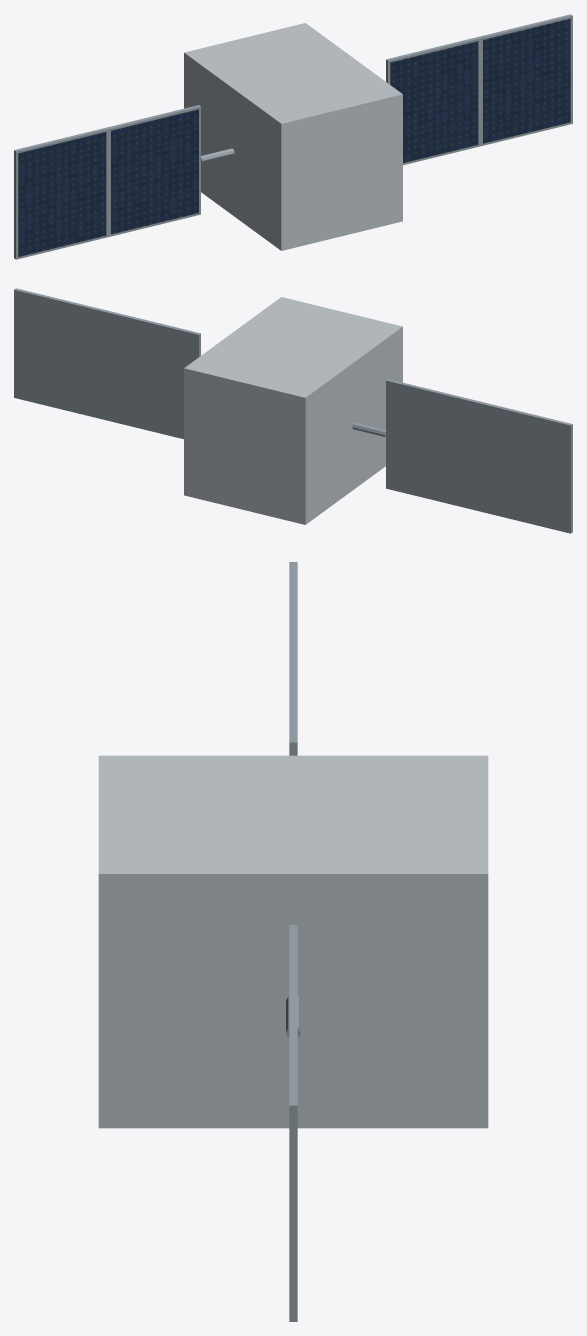
File: ref-alos-28931.glb
3 views of the same model, one above another, from view 1: azimuth 30°, elevation 25°; view 2: azimuth 150°, elevation 25°; view 3: azimuth 270°, elevation 25° (orthographic). The views are drawn at different scales.
Parts seen in each view (by area): view 1: Spacecraft body, Photovoltaic laminates (×4), Array frame (×4); view 2: Array frame (×4), Spacecraft body; view 3: Spacecraft body, Array frame (×2).
Part boxes in pixels (<box>): Spacecraft body: <box>184,23,402,250</box>; Photovoltaic laminates (×4): <box>18,18,570,256</box>; Array frame (×4): <box>14,14,572,259</box>; Array frame (×4): <box>14,288,572,533</box>; Spacecraft body: <box>184,297,402,524</box>; Spacecraft body: <box>98,755,488,1128</box>; Array frame (×2): <box>289,652,297,1321</box>.
Bounding box in the file's own units: 16.5 × 3.6 × 5.
Materials: 3 (1 with a texture image).
